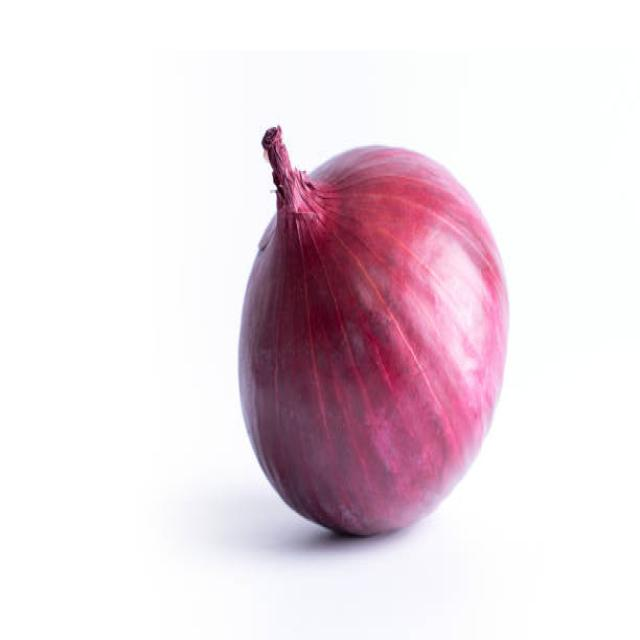onion: (237, 137, 509, 538)
